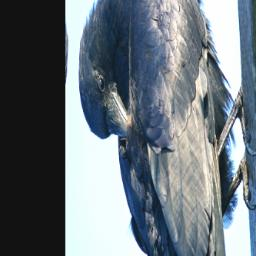Crow: (71, 0, 256, 256)
